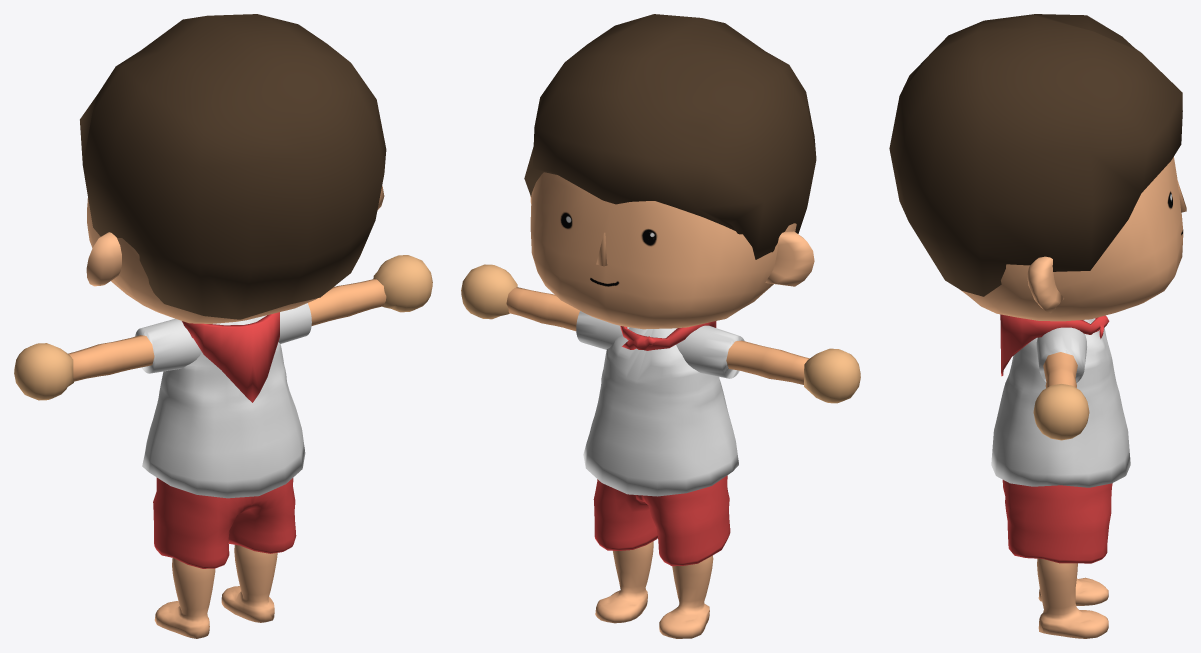
File: main char.fbx_character.fbx
3 views of the same model, side by side, from view 1: azimuth 30°, elevation 25°; view 2: azimuth 150°, elevation 25°; view 3: azimuth 270°, elevation 25° (orthographic). The views are drawn at different scales.
Parts seen in each view (by area): view 1: HAIR, TSHIRT, SHORT, leg, HAND, ARM, bandana, HEAD, PAKO, PAKO2; view 2: HAIR, HEAD, TSHIRT, SHORT, leg, HAND, ARM, PAKO, PAKO2, bandana; view 3: HAIR, HEAD, TSHIRT, SHORT, leg, HAND, bandana, PAKO2, ARM.
Part boxes in pixels (x1,y1,x2,y2): HAIR: [80, 14, 386, 319]; TSHIRT: [142, 318, 305, 498]; SHORT: [153, 477, 296, 568]; leg: [154, 545, 277, 638]; HAND: [14, 255, 432, 400]; ARM: [68, 279, 386, 381]; bandana: [182, 312, 279, 402]; HEAD: [86, 186, 384, 323]; PAKO: [135, 318, 201, 373]; PAKO2: [256, 303, 311, 343]; HAIR: [524, 14, 816, 259]; HEAD: [530, 172, 814, 329]; TSHIRT: [583, 327, 738, 496]; SHORT: [593, 475, 730, 566]; leg: [595, 541, 713, 638]; HAND: [461, 264, 860, 403]; ARM: [506, 287, 809, 384]; PAKO: [676, 325, 744, 378]; PAKO2: [576, 311, 629, 349]; bandana: [620, 321, 716, 350]; HAIR: [889, 14, 1182, 296]; HEAD: [960, 157, 1186, 321]; TSHIRT: [991, 318, 1130, 487]; SHORT: [1002, 480, 1112, 563]; leg: [1037, 558, 1108, 638]; HAND: [1033, 384, 1089, 440]; bandana: [1000, 314, 1109, 376]; PAKO2: [1036, 327, 1086, 382]; ARM: [1043, 352, 1077, 388].
Bounding box in the file's own units: 146 × 202 × 93.12.
